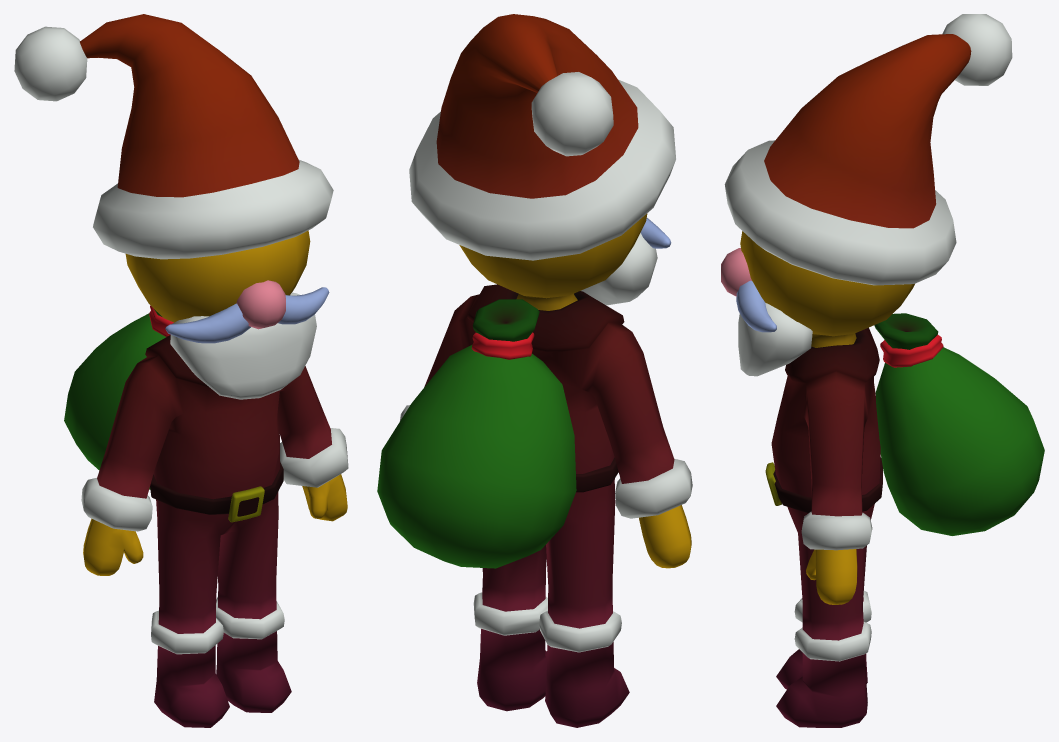
The model's file is Hero_Santa.fbx.
3 renders of one model, left to right at view 1: azimuth 30°, elevation 25°; view 2: azimuth 150°, elevation 25°; view 3: azimuth 270°, elevation 25°, orthographic. The views are drawn at different scales.
Visible parts, largest first — view 1: Hero_Santa; view 2: Hero_Santa; view 3: Hero_Santa.
Part boxes in pixels (x1=…): Hero_Santa: x1=14, y1=14, x2=348, y2=727; Hero_Santa: x1=377, y1=14, x2=692, y2=727; Hero_Santa: x1=721, y1=14, x2=1044, y2=727.
Bounding box in the file's own units: 116 × 276 × 124.
